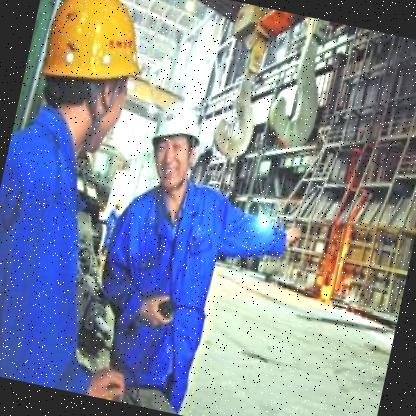capacete: (20, 0, 161, 161), (140, 96, 210, 200)
sem_colete_refletivo: (0, 102, 144, 394), (78, 164, 242, 402)
